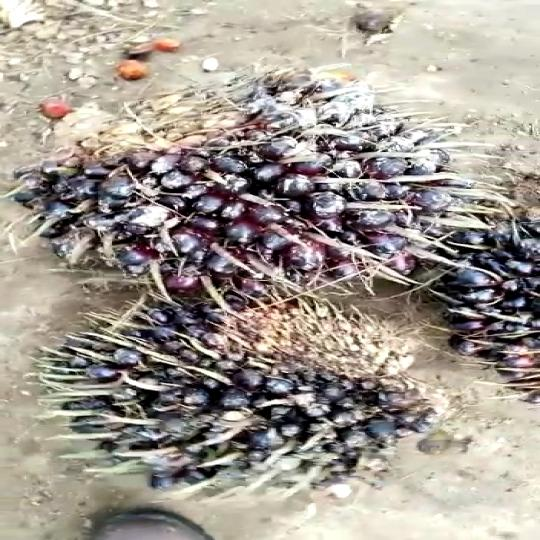mentah: (20, 63, 438, 298), (27, 279, 452, 502)
